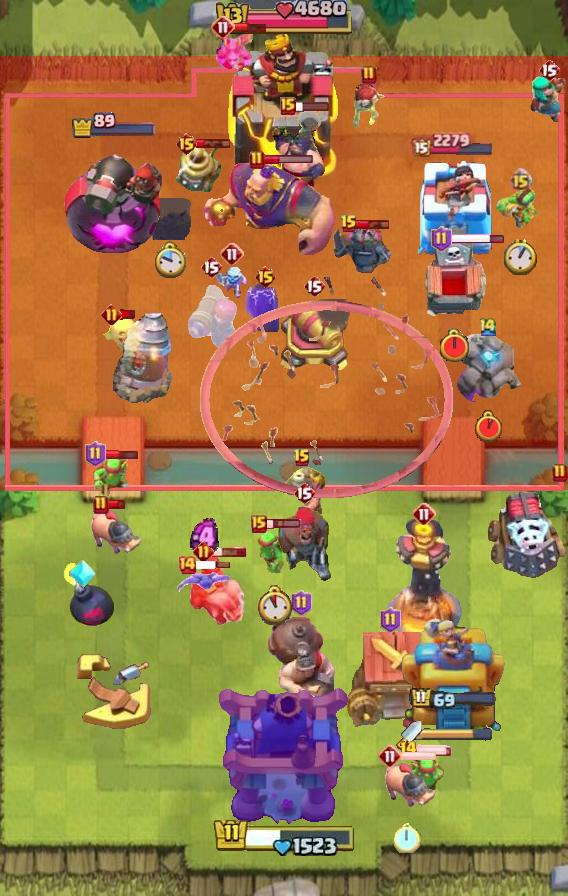bar: (450, 232, 505, 245), (263, 154, 314, 165), (415, 744, 453, 756), (104, 448, 139, 461), (400, 750, 437, 762), (265, 518, 302, 530), (211, 546, 247, 558), (355, 218, 391, 230), (294, 100, 330, 112), (232, 22, 268, 33), (196, 138, 231, 149), (195, 560, 231, 570), (107, 499, 126, 510), (120, 309, 137, 320)
bar-level: (378, 744, 402, 768), (412, 502, 436, 526), (220, 242, 244, 266), (211, 15, 235, 39), (254, 265, 277, 289), (175, 132, 198, 156), (380, 607, 401, 633), (291, 590, 312, 616), (85, 441, 106, 467), (431, 226, 452, 252), (509, 168, 532, 191), (293, 481, 315, 505), (303, 274, 325, 298), (200, 255, 222, 279), (538, 58, 560, 82), (193, 541, 214, 562), (101, 304, 122, 325), (478, 316, 498, 337), (177, 555, 197, 575), (399, 740, 418, 760), (293, 448, 311, 468), (340, 214, 358, 234), (93, 495, 109, 515), (552, 463, 568, 483), (249, 150, 265, 170), (361, 65, 377, 85), (251, 515, 267, 533), (280, 97, 296, 115)
bat-evolution: (175, 569, 233, 597)
bomb: (62, 560, 116, 628), (147, 198, 191, 240)
bomber: (350, 84, 388, 130)
cannoneer-tower: (64, 138, 164, 256)
clock: (255, 585, 294, 626), (153, 241, 186, 280), (504, 238, 537, 275), (438, 328, 471, 364), (475, 410, 502, 443), (394, 822, 421, 853)
dagger-duchess-tower: (401, 615, 506, 731)
dagger-duchess-tower-bar: (422, 728, 492, 742)
electro-spirit: (245, 282, 285, 332)
elixir: (190, 518, 219, 558)
executioner: (270, 108, 328, 194)
firecracker-evolution: (183, 281, 239, 353)
golemite: (453, 334, 523, 402)
heal-spirit: (102, 314, 144, 352)
hunter: (276, 502, 332, 584)
ice-spirit-evolution-symbol: (68, 558, 96, 590)
king-tower: (216, 684, 352, 826), (226, 33, 342, 181)
king-tower-bar: (212, 814, 356, 856), (213, 0, 355, 38)
miner: (276, 464, 328, 520)
mini-pekka: (330, 226, 392, 274)
minion: (216, 23, 256, 73)
queen-tower: (407, 158, 499, 256)
ram-rider: (189, 551, 249, 627)
rascal-girl: (528, 74, 568, 126)
royal-hog: (379, 760, 435, 808), (85, 507, 141, 555)
skeleton: (215, 266, 249, 300)
spear-goblin: (398, 753, 446, 799), (252, 528, 296, 576), (496, 186, 544, 230), (91, 452, 133, 498)
tower-bar: (71, 112, 157, 139), (411, 131, 495, 157), (410, 687, 497, 711)
zappy: (173, 144, 225, 196)
